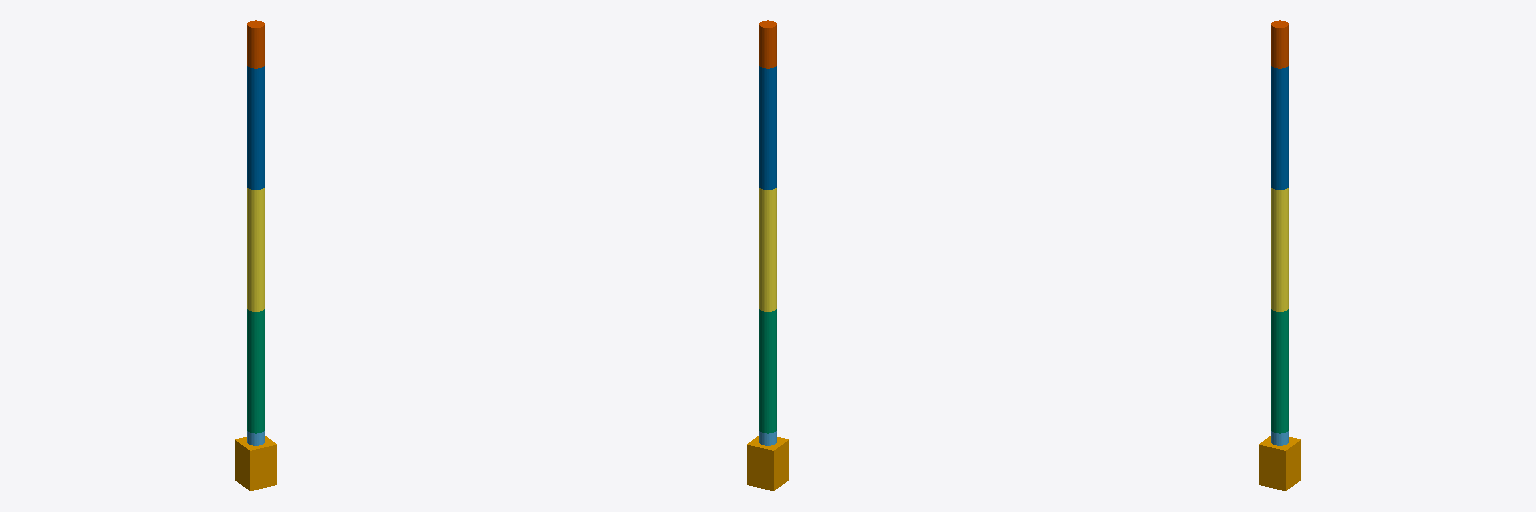
The robot description file, URDF, robot "optimized_complex_robot":
<?xml version="1.0"?>
<robot name="optimized_complex_robot">

    <!-- Base Link -->
    <link name="base">
        <visual>
            <geometry>
                <box size="0.07 0.07 0.1"/>  <!-- Length adjusted to 70mm -->
            </geometry>
        </visual>
    </link>

    <!-- Link 1 (30mm) -->
    <link name="link1">
        <visual>
            <geometry>
                <cylinder radius="0.02" length="0.03"/> <!-- Length confirmed as 30mm -->
            </geometry>
            <origin xyz="0 0 0.015" rpy="0 0 0"/>  <!-- Centered along length -->
        </visual>
    </link>

    <!-- Joint 1 - Allows 360 degree rotation -->
    <joint name="joint1" type="revolute">
        <parent link="base"/>
        <child link="link1"/>
        <origin xyz="0 0 0.05" rpy="0 0 0"/>
        <axis xyz="0 0 1"/>
        <limit lower="-3.14159" upper="3.14159" effort="1000" velocity="1.0"/>
    </joint>

    <!-- Link 2 (300mm) -->
    <link name="link2">
        <visual>
            <geometry>
                <cylinder radius="0.02" length="0.3"/> <!-- Length adjusted to 300mm -->
            </geometry>
            <origin xyz="0 0 0.15" rpy="0 0 0"/>  <!-- Centered along length -->
        </visual>
    </link>

    <!-- Joint 2 -->
    <joint name="joint2" type="revolute">
        <parent link="link1"/>
        <child link="link2"/>
        <origin xyz="0 0 0.03" rpy="0 0 0"/>  <!-- Adjusted for the length of link1 -->
        <axis xyz="0 1 0"/>
        <limit lower="-1.5708" upper="1.5708" effort="1000" velocity="1.0"/>
    </joint>

    <!-- Link 3 (300mm) -->
    <link name="link3">
        <visual>
            <geometry>
                <cylinder radius="0.02" length="0.3"/> <!-- Length adjusted to 300mm -->
            </geometry>
            <origin xyz="0 0 0.15" rpy="0 0 0"/>  <!-- Centered along length -->
        </visual>
    </link>

    <!-- Joint 3 -->
    <joint name="joint3" type="revolute">
        <parent link="link2"/>
        <child link="link3"/>
        <origin xyz="0 0 0.3" rpy="0 0 0"/>  <!-- Adjusted for the length of link2 -->
        <axis xyz="0 1 0"/>
        <limit lower="-1.5708" upper="1.5708" effort="1000" velocity="1.0"/>
    </joint>

    <!-- Link 4 (300mm) -->
    <link name="link4">
        <visual>
            <geometry>
                <cylinder radius="0.02" length="0.3"/> <!-- Length adjusted to 300mm -->
            </geometry>
            <origin xyz="0 0 0.15" rpy="0 0 0"/>  <!-- Centered along length -->
        </visual>
    </link>

    <!-- Joint 4 -->
    <joint name="joint4" type="revolute">
        <parent link="link3"/>
        <child link="link4"/>
        <origin xyz="0 0 0.3" rpy="0 0 0"/>  <!-- Adjusted for the length of link3 -->
        <axis xyz="0 1 0"/>
        <limit lower="-1.5708" upper="1.5708" effort="1000" velocity="1.0"/>
    </joint>

    <!-- Link 5 (100mm) -->
    <link name="link5">
        <visual>
            <geometry>
                <cylinder radius="0.02" length="0.1"/> <!-- Length adjusted to 100mm -->
            </geometry>
            <origin xyz="0 0 0.05" rpy="0 0 0"/>  <!-- Centered along length -->
        </visual>
    </link>

    <!-- Joint 5 -->
    <joint name="joint5" type="revolute">
        <parent link="link4"/>
        <child link="link5"/>
        <origin xyz="0 0 0.3" rpy="0 0 0"/>  <!-- Adjusted for the length of link4 -->
        <axis xyz="0 1 0"/>
        <limit lower="-1.5708" upper="1.5708" effort="1000" velocity="1.0"/>
    </joint>

</robot>

--- What the picture shows (computed from the rendered views, not written in the file) ---
The picture shows the robot from 3 angles, left to right: view 1: azimuth 30°, elevation 25°; view 2: azimuth 150°, elevation 25°; view 3: azimuth 330°, elevation 25°; orthographic projection.
Robot: optimized_complex_robot — 6 links, 5 joints (5 revolute); root link base; default pose: all joints at 0.
Links seen in each view (by area): view 1: link3, link2, link4, base, link5; view 2: link3, link2, link4, base, link5; view 3: link3, link2, link4, base, link5.
Link boxes in pixels (bbox=[...]): link3: bbox=[247, 188, 264, 311]; link2: bbox=[247, 309, 264, 433]; link4: bbox=[247, 66, 264, 189]; base: bbox=[235, 436, 276, 490]; link5: bbox=[247, 20, 264, 68]; link3: bbox=[759, 188, 776, 311]; link2: bbox=[759, 309, 776, 433]; link4: bbox=[759, 66, 776, 189]; base: bbox=[747, 436, 788, 490]; link5: bbox=[759, 20, 776, 68]; link3: bbox=[1271, 188, 1288, 311]; link2: bbox=[1271, 309, 1288, 433]; link4: bbox=[1271, 66, 1288, 189]; base: bbox=[1259, 436, 1300, 490]; link5: bbox=[1271, 20, 1288, 68].
Size in the robot's own frame: 0.07 by 0.07 by 1.13 metres.
Geometry: primitives only (box / cylinder / sphere), no mesh files.
